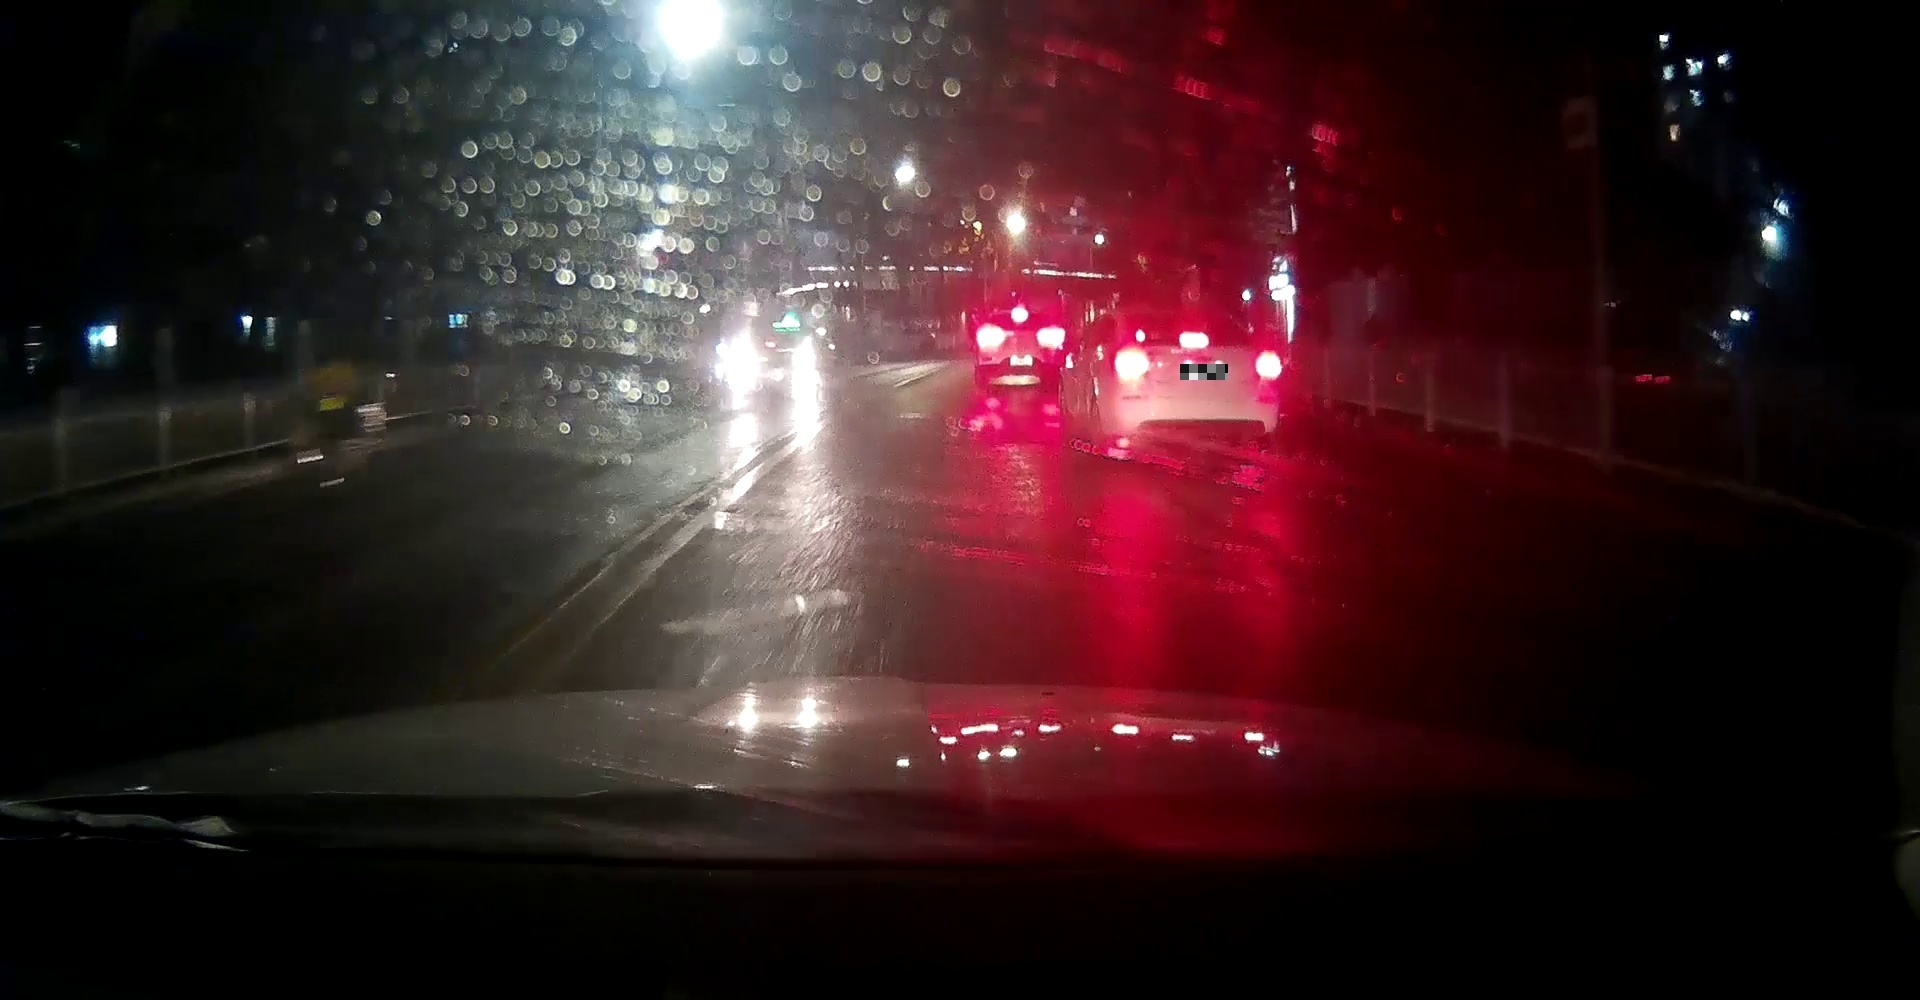L_light: (1115, 353, 1148, 372), (978, 330, 1004, 341)
R_light: (1255, 355, 1281, 376), (1037, 329, 1063, 341)
T_light: (1178, 332, 1209, 346), (1010, 313, 1030, 321)
night-brake: (1114, 305, 1283, 452), (975, 308, 1065, 387)
plate_1: (1180, 364, 1228, 379)
